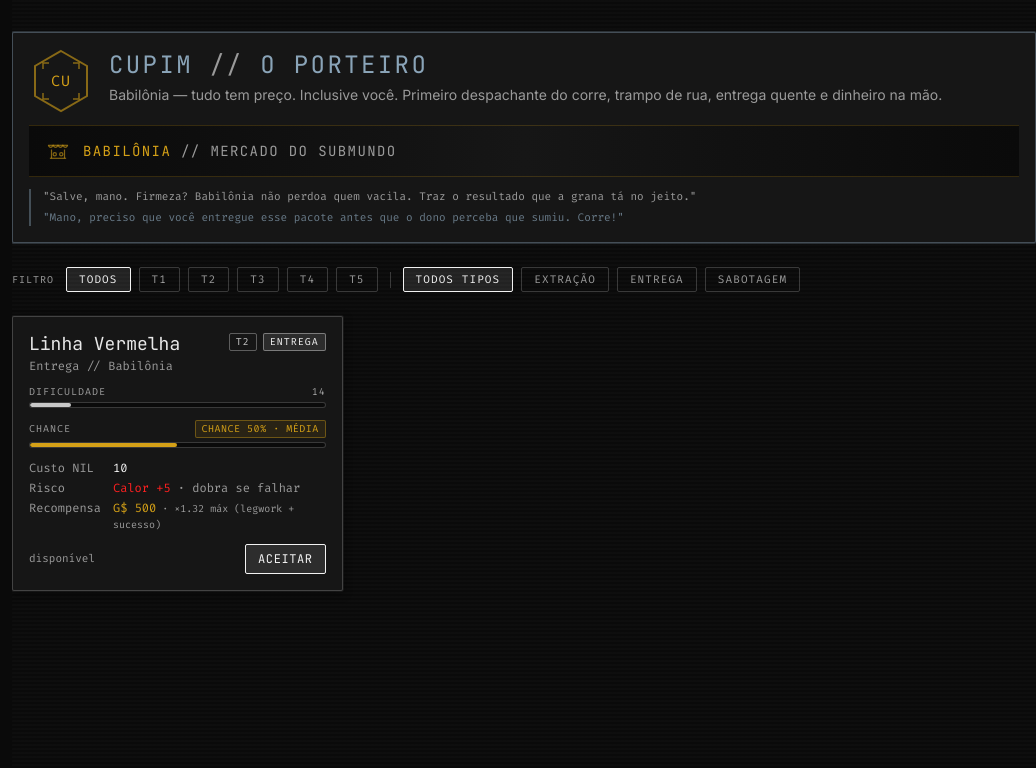
Test case: GigBoardView › shows the empty-filter message when no trampo matches
Click the tab "T1" at (159, 280), box [138,267,180,292]
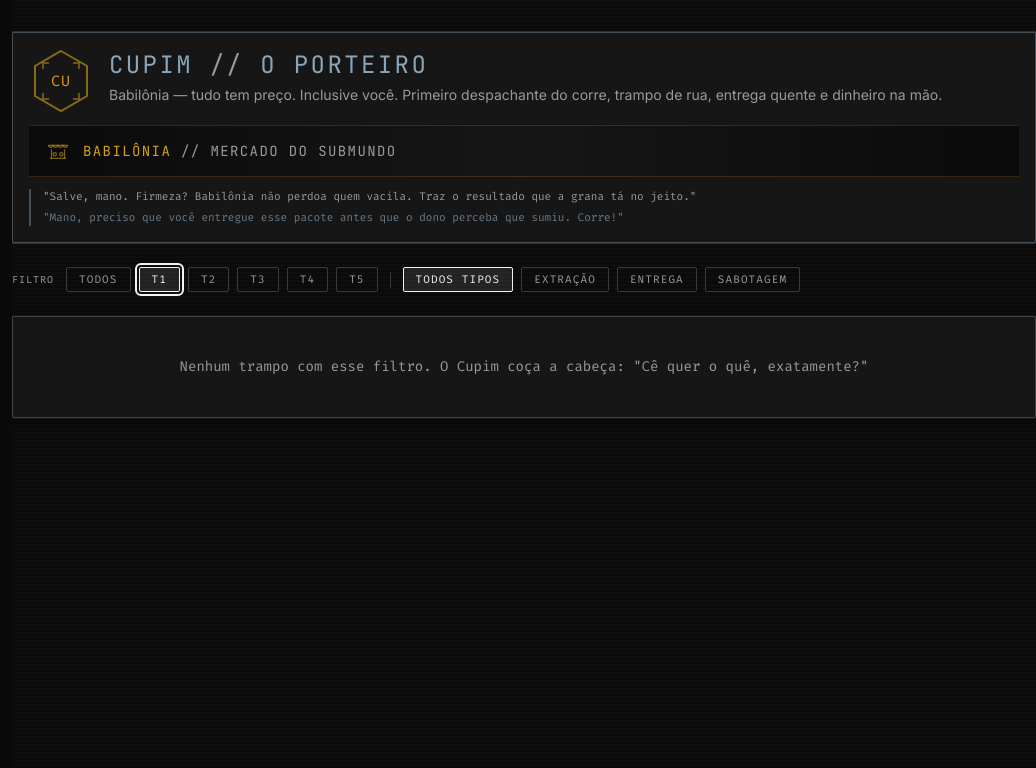
Now the text "Nenhum trampo com esse filtro" is shown, box [180,357,642,376]
